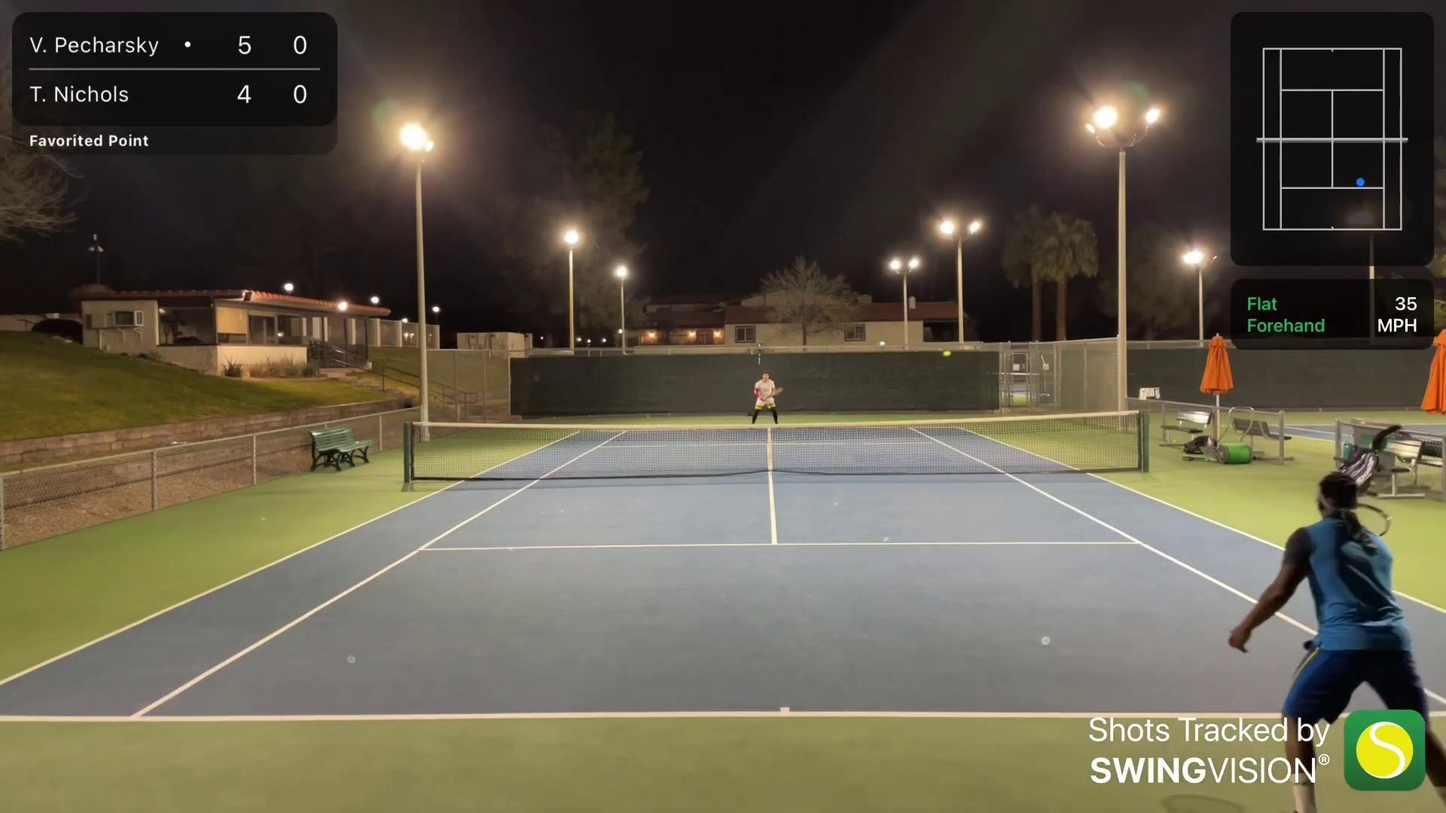ball: (941, 350, 947, 357)
